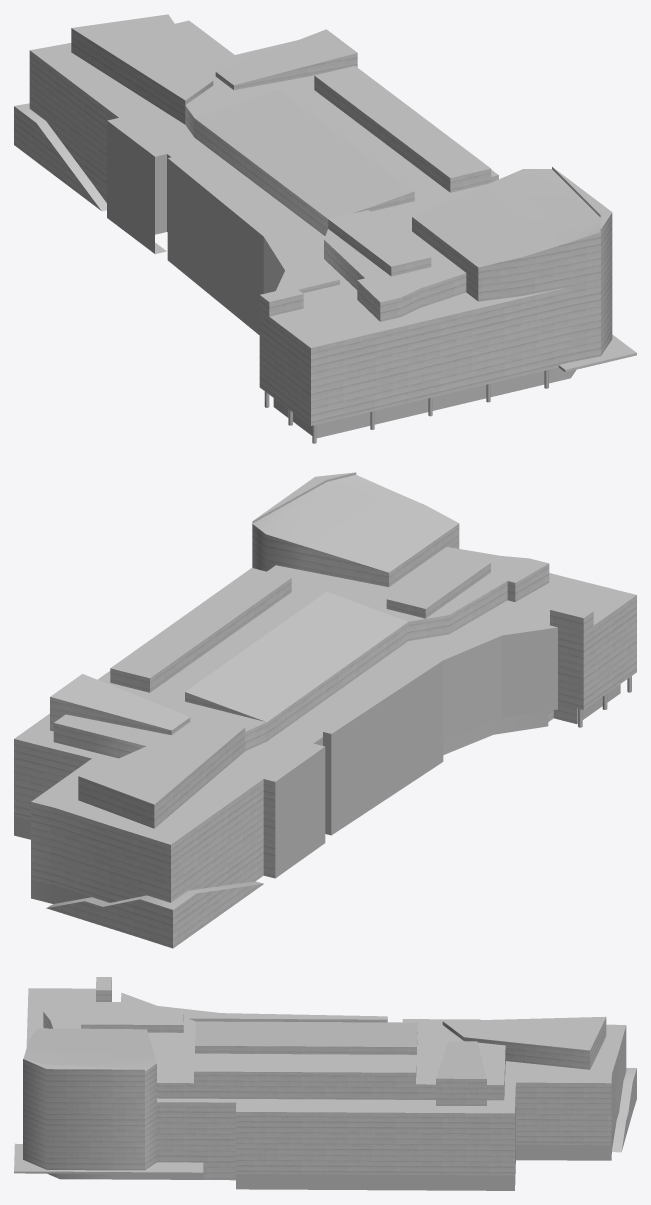
Rendered from metreon.FBX.
3 views of the same model, one above another, from view 1: azimuth 30°, elevation 25°; view 2: azimuth 150°, elevation 25°; view 3: azimuth 270°, elevation 25° (orthographic). The views are drawn at different scales.
Visible parts, largest first — view 1: metreon; view 2: metreon; view 3: metreon.
Part boxes in pixels (x1,y1,x2,y2): metreon: (14, 14, 636, 443); metreon: (14, 472, 636, 948); metreon: (14, 977, 636, 1190).
Bounding box in the file's own units: 69.24 × 30.5 × 146.
